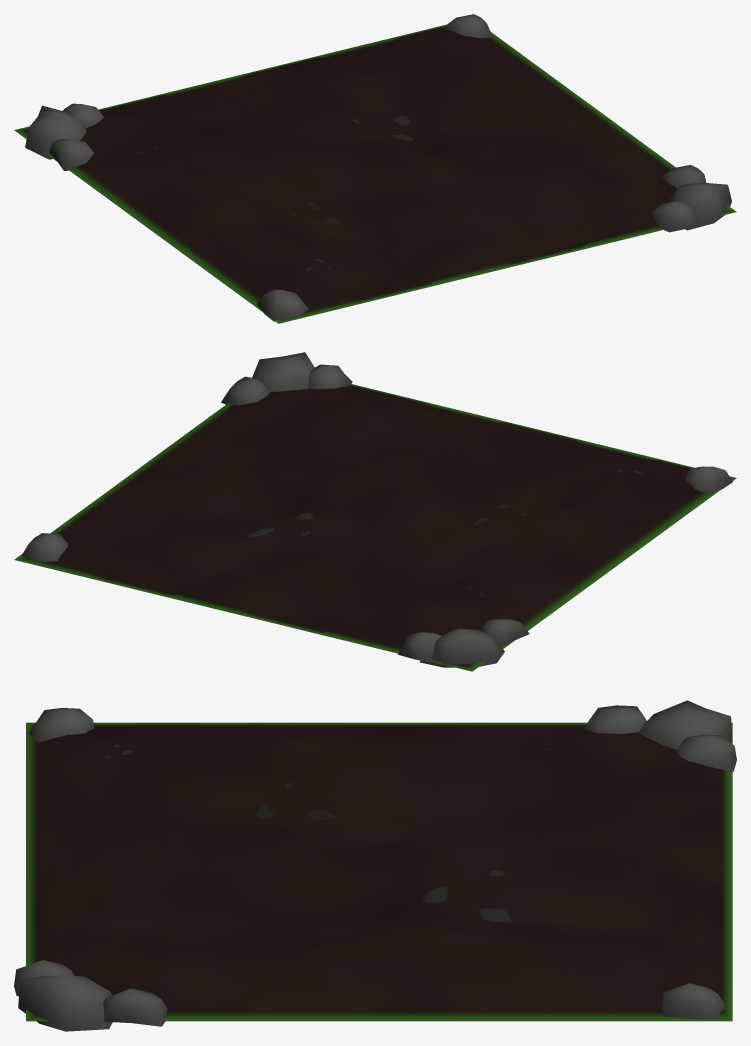
The model's file is posevi.fbx.
3 views of the same model, one above another, from view 1: azimuth 30°, elevation 25°; view 2: azimuth 150°, elevation 25°; view 3: azimuth 270°, elevation 25° (orthographic). The views are drawn at different scales.
Parts seen in each view (by area): view 1: posevi; view 2: posevi; view 3: posevi.
Part boxes in pixels (left/top/right/bottom): posevi: left=14, top=14, right=736, bottom=323; posevi: left=14, top=352, right=736, bottom=671; posevi: left=14, top=700, right=736, bottom=1031.
Bounding box in the file's own units: 207 × 11.25 × 205.
